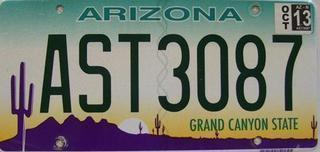placa de veiculo: (2, 2, 317, 145)
